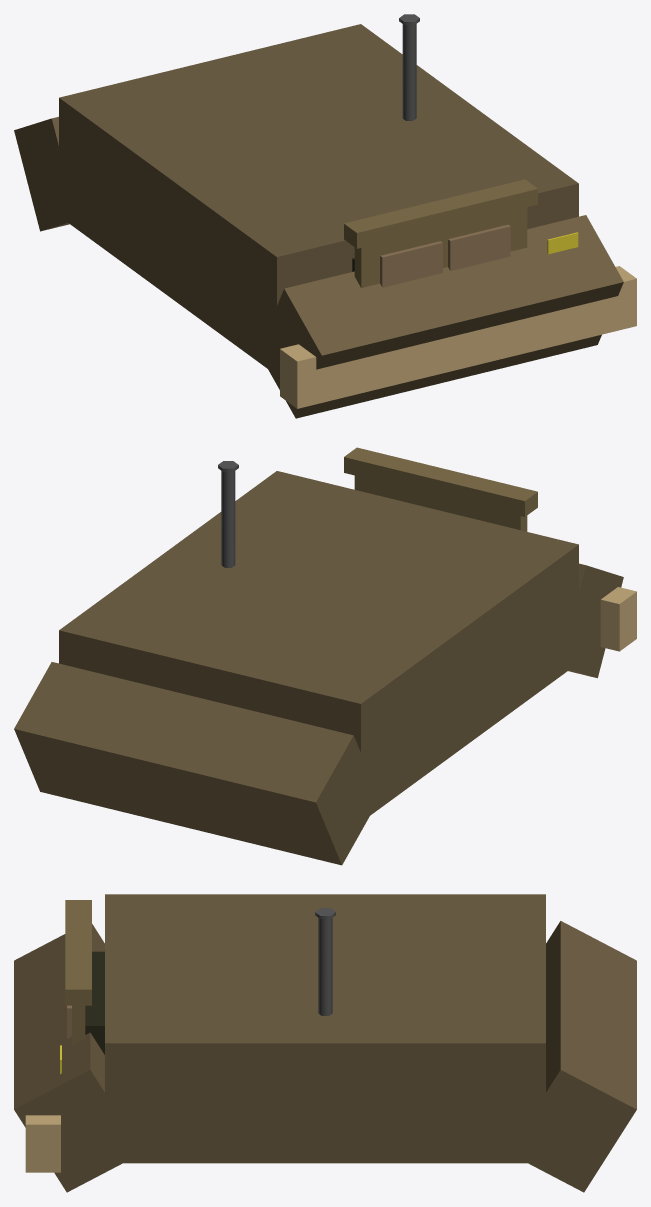
File: ammo-bunker.glb
3 renders of one model, top to bottom at view 1: azimuth 30°, elevation 25°; view 2: azimuth 150°, elevation 25°; view 3: azimuth 270°, elevation 25°, orthographic.
Parts seen in each view (by area): view 1: Mesh_EarthMound, Mesh_SlopeFrontMesh, Mesh_SandbagRevetment, Mesh_Lintel, Mesh_SlopeBackMesh, Mesh_EntranceFrame, Mesh_DoorLeft, Mesh_DoorRight, Mesh_VentPipe; view 2: Mesh_EarthMound, Mesh_SlopeBackMesh, Mesh_Lintel, Mesh_SlopeFrontMesh, Mesh_EntranceFrame, Mesh_SandbagRevetment, Mesh_VentPipe; view 3: Mesh_EarthMound, Mesh_SlopeBackMesh, Mesh_SlopeFrontMesh, Mesh_Lintel, Mesh_SandbagRevetment, Mesh_VentPipe, Mesh_EntranceCut, Mesh_EntranceFrame.
Boxes of the visible parts, x1,y1,x2,y2 form: Mesh_EarthMound: (59, 24, 578, 374); Mesh_SlopeFrontMesh: (258, 215, 623, 418); Mesh_SandbagRevetment: (280, 266, 636, 408); Mesh_Lintel: (344, 179, 537, 248); Mesh_SlopeBackMesh: (14, 116, 76, 231); Mesh_EntranceFrame: (354, 207, 527, 287); Mesh_DoorLeft: (380, 241, 442, 287); Mesh_DoorRight: (448, 224, 510, 270); Mesh_VentPipe: (402, 24, 416, 120); Mesh_EarthMound: (59, 471, 578, 821); Mesh_SlopeBackMesh: (14, 662, 379, 865); Mesh_Lintel: (344, 447, 537, 516); Mesh_SlopeFrontMesh: (560, 563, 623, 678); Mesh_EntranceFrame: (354, 475, 527, 531); Mesh_SandbagRevetment: (600, 587, 636, 651); Mesh_VentPipe: (221, 471, 235, 567); Mesh_EarthMound: (105, 894, 545, 1163); Mesh_SlopeBackMesh: (508, 921, 636, 1192); Mesh_SlopeFrontMesh: (14, 924, 142, 1192); Mesh_Lintel: (65, 900, 91, 1005); Mesh_SandbagRevetment: (25, 1115, 60, 1172); Mesh_VentPipe: (318, 918, 332, 1015); Mesh_EntranceCut: (85, 951, 104, 1054); Mesh_EntranceFrame: (72, 1005, 85, 1045).
Size of the model in its own units: 4.5 by 3.14 by 7.07.
